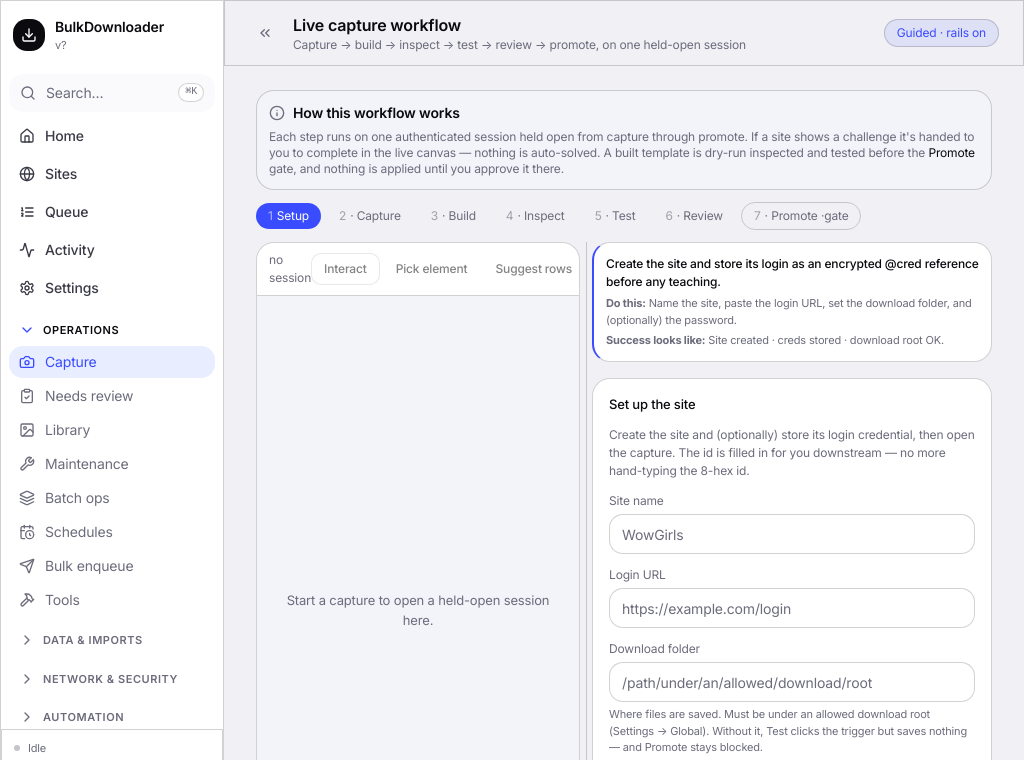
Scenario: O1671 a13 capture pick poll cancellation › a poll in flight when the operator disarms makes no state change and no toast
The image size is (1024, 760).
Check: the heading "Live capture workflow" is shown, box [293,15,461,35]
Type "Pick site" into the field with placeholder "WowGirls" at (792, 534), box [609,514,975,554]
Type "https://members.example.invalid/login" into the field with placeholder "https://example.com/login" at (792, 608), box [609,588,975,628]
(page scrolled)
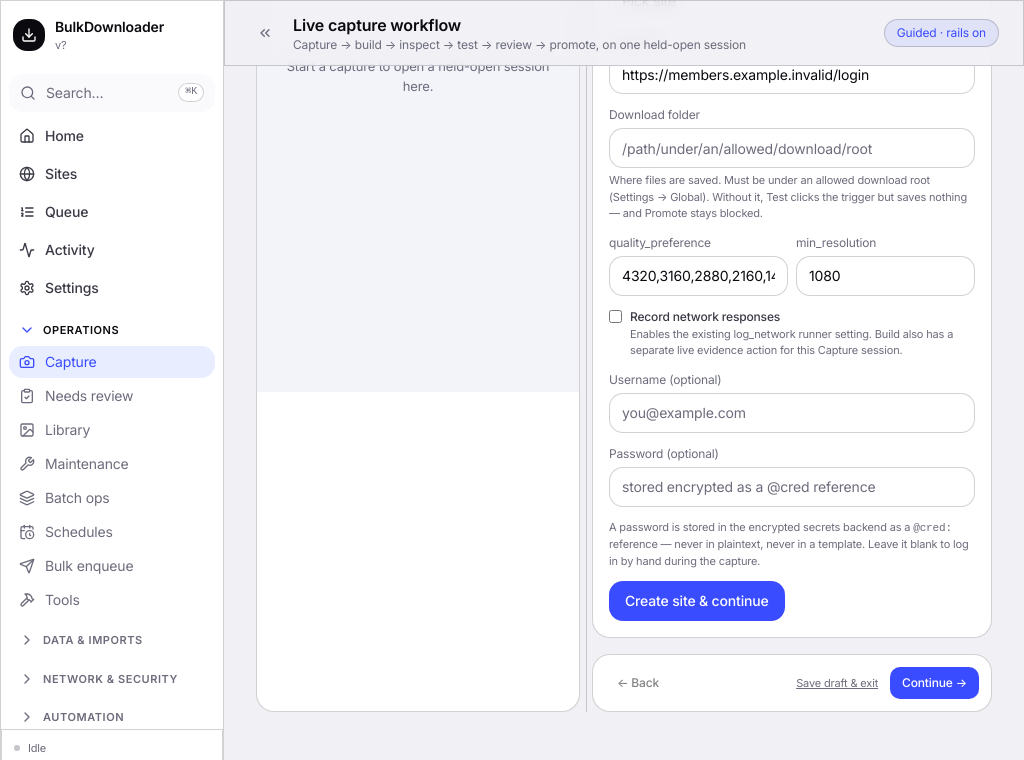
Click the button "Create site & continue" at (697, 601), box [609,581,785,621]
(page scrolled)
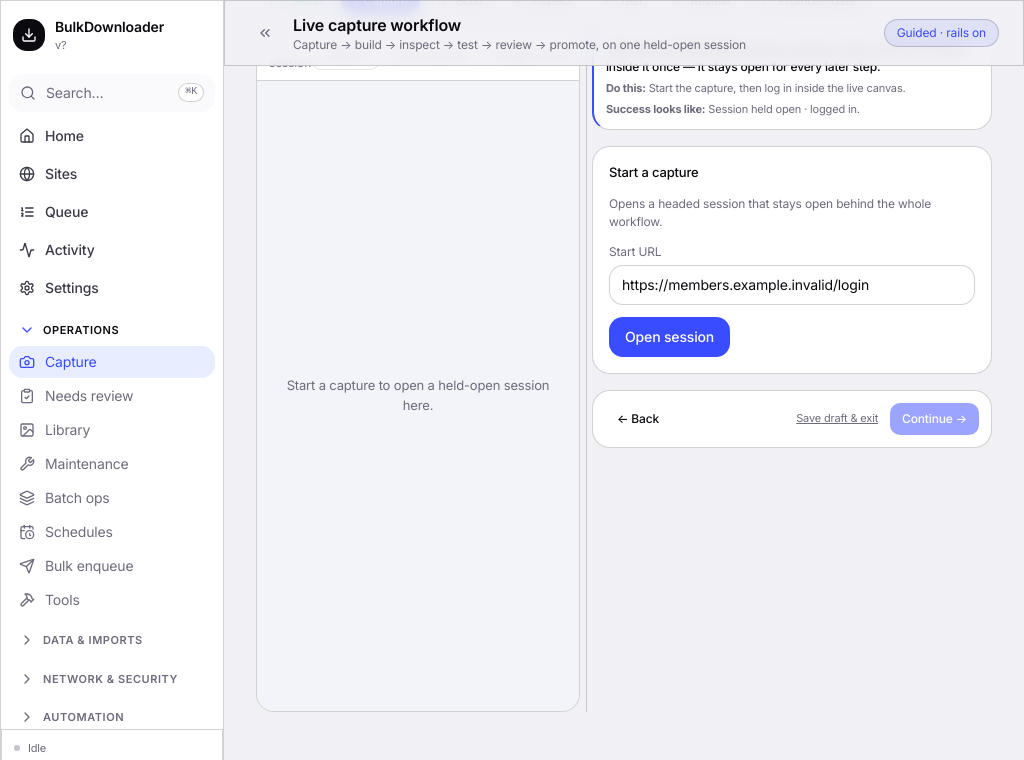
Check: the text "Start a capture" is shown, box [609,164,699,180]
Click the button "Open session" at (670, 336), box [609,316,730,356]
(page scrolled)
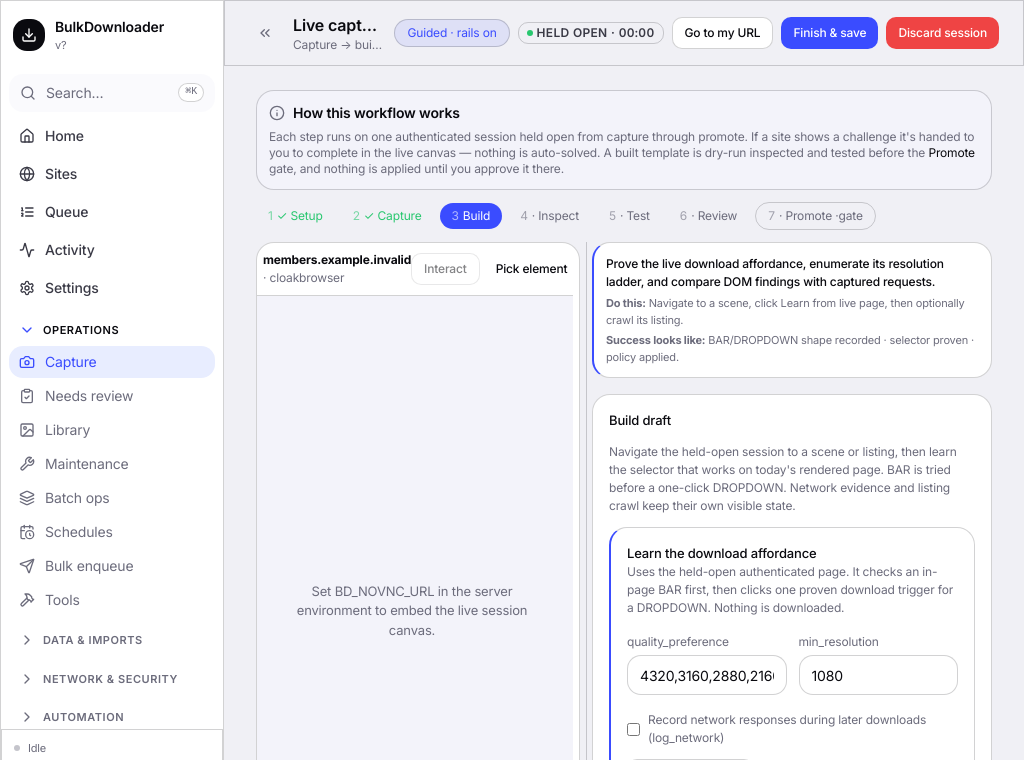
Check: the text "Learn the download affordance" is shown, box [627,544,816,560]
Click the button "Pick element" at (532, 269), box [484,253,580,285]
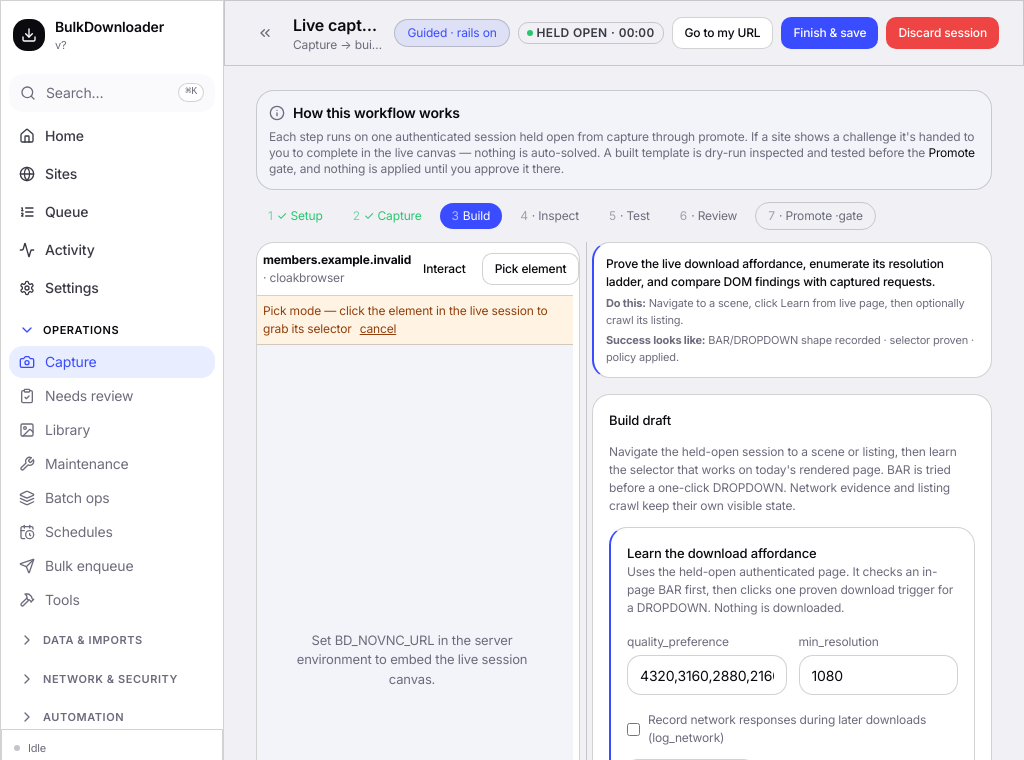
Check: the text "Pick mode" is shown, box [263,303,548,336]
Click the button "Interact" at (444, 269), box [411,253,478,285]
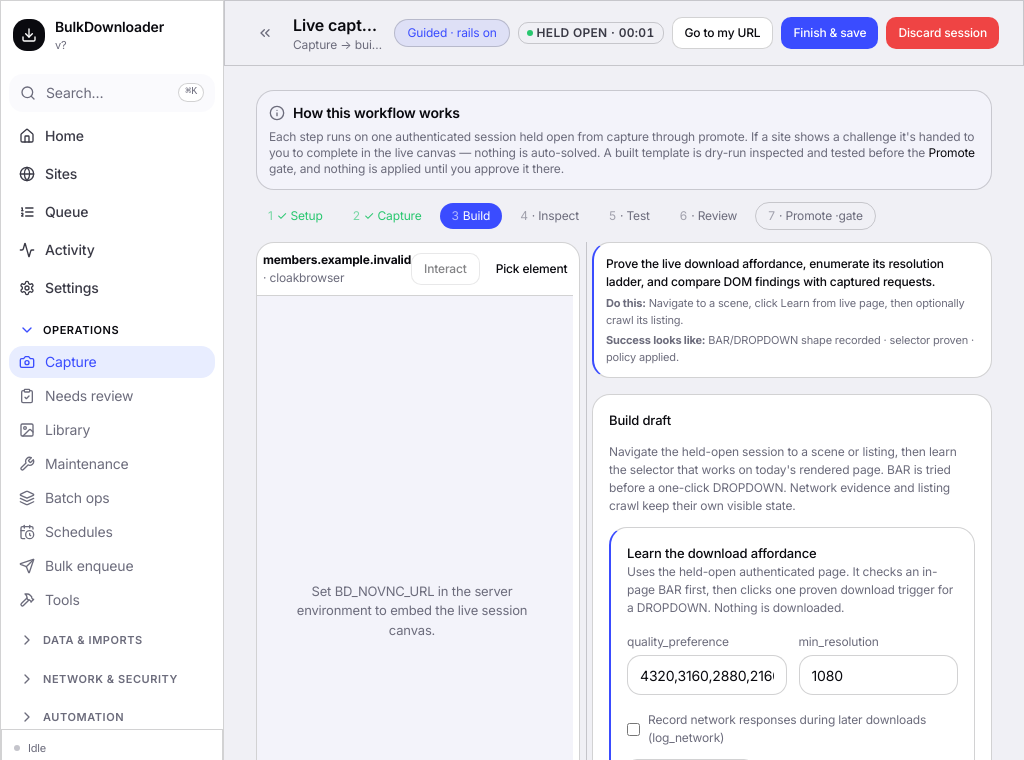
Check: the text "Pick mode" is gone
Click the button "Pick element" at (532, 269), box [484,253,580,285]
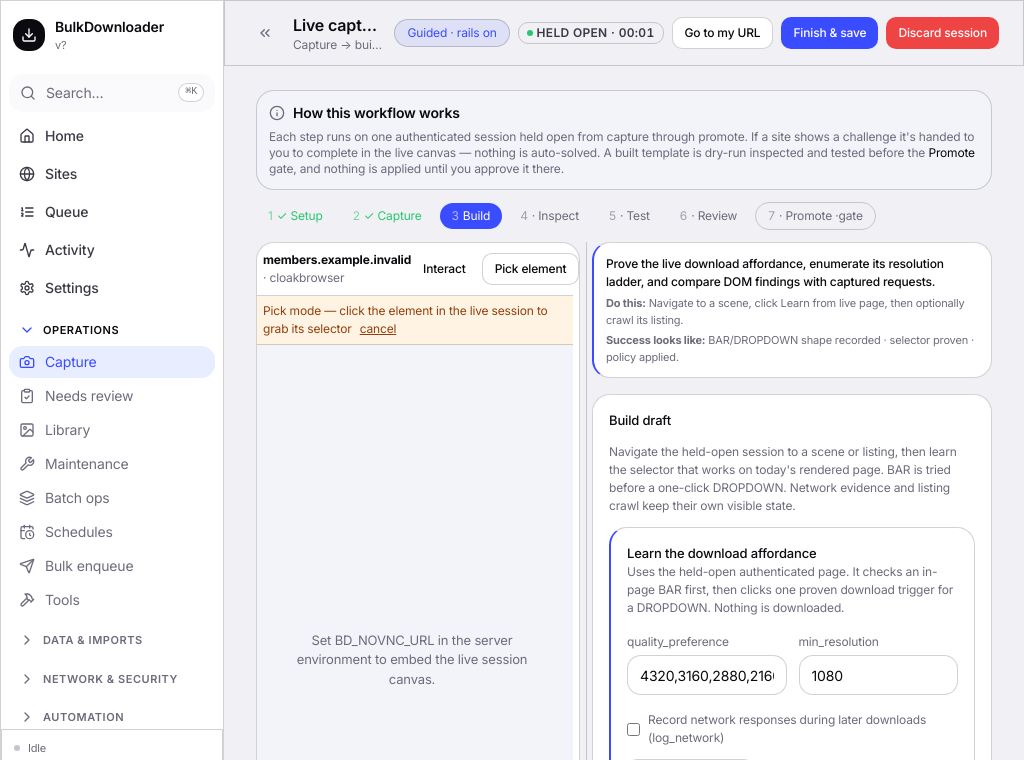
Check: the text "Pick mode" is shown, box [263,303,548,336]
